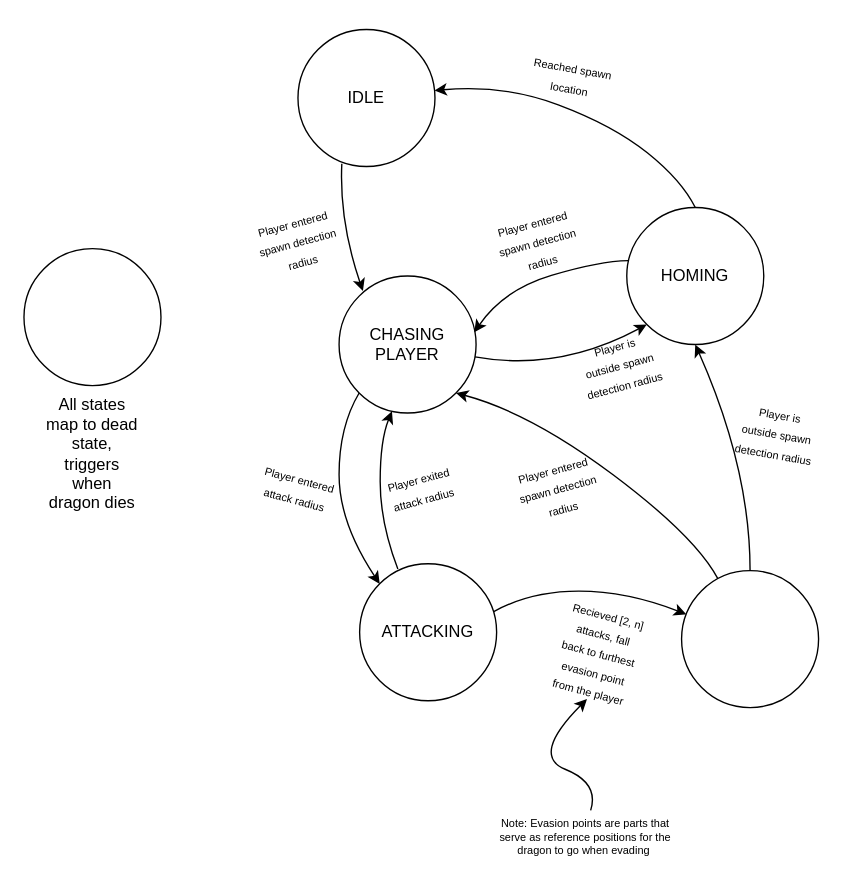
Image size: 851x889. Some labels were removed from this diagram. The shapes that lost their labels are listed below. From the top down, each one's centre as x and y in pixels, then its label:
the point at 92,316: Dead
the point at 749,638: Evade
